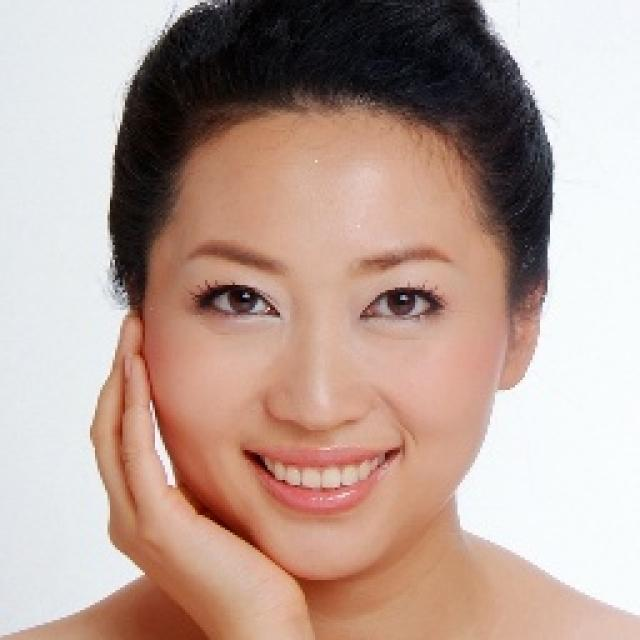earlobe: (494, 268, 546, 392)
